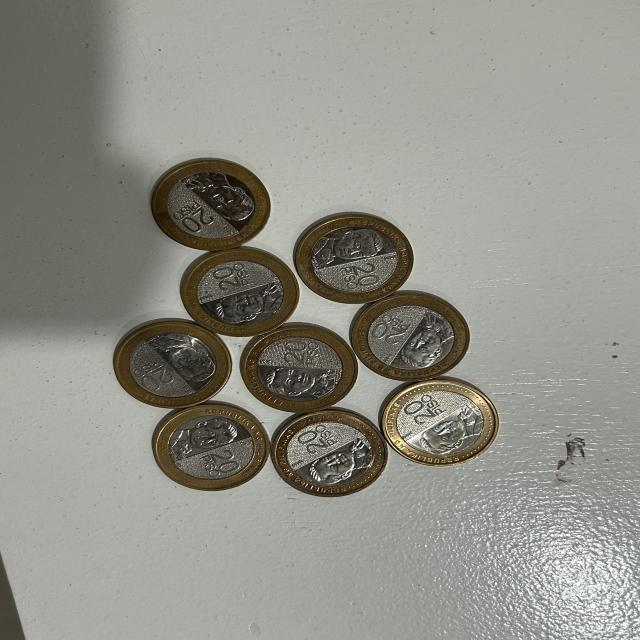20_New_Front: (289, 423, 349, 455), (365, 311, 410, 348), (128, 357, 179, 389), (273, 336, 323, 366), (171, 202, 219, 232), (194, 448, 242, 478), (402, 396, 448, 427), (339, 262, 388, 287), (210, 262, 250, 289)
